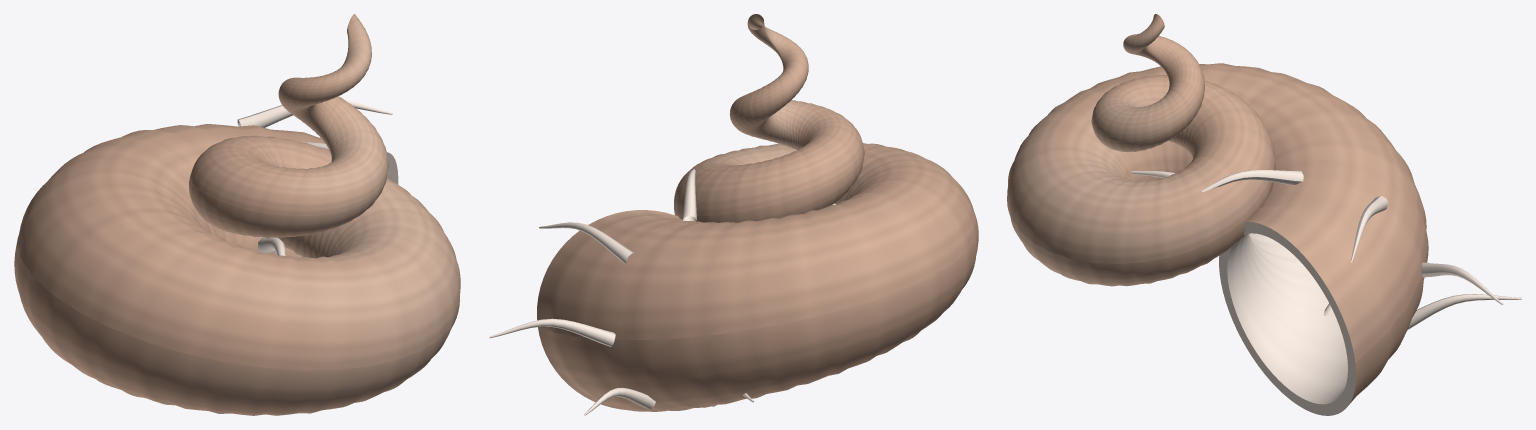
File: spider-conch.glb
3 renders of one model, left to right at view 1: azimuth 30°, elevation 25°; view 2: azimuth 150°, elevation 25°; view 3: azimuth 270°, elevation 25°, orthographic. The views are drawn at different scales.
Parts seen in each view (by area): view 1: spider-conch; view 2: spider-conch; view 3: spider-conch.
Boxes of the visible parts, <box> form: spider-conch: <box>14,14,460,415</box>; spider-conch: <box>489,14,978,415</box>; spider-conch: <box>1007,14,1521,415</box>.
Size of the model in its own units: 1.54 by 1.53 by 1.91.
